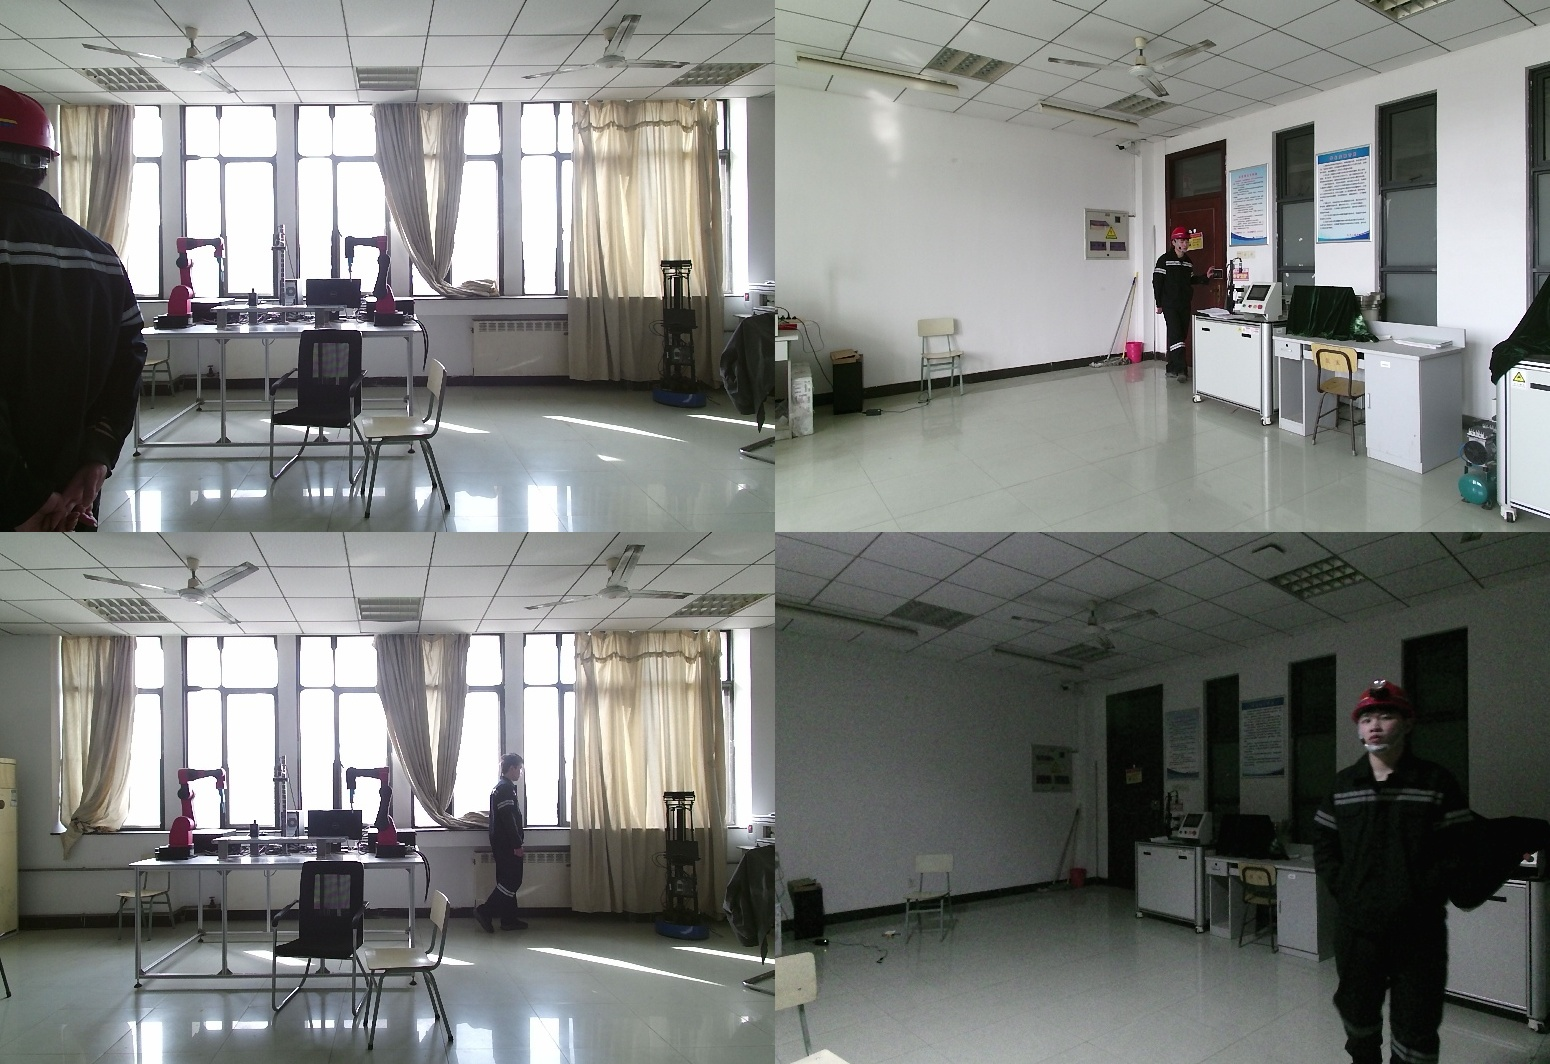person: (1300, 670, 1514, 1064), (1, 87, 148, 532), (464, 752, 529, 940), (1153, 228, 1211, 386)
